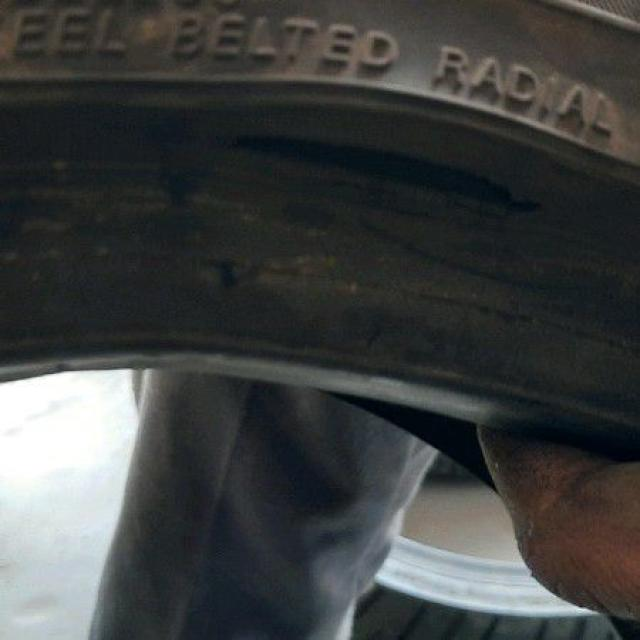Bulge: (223, 24, 604, 183)
